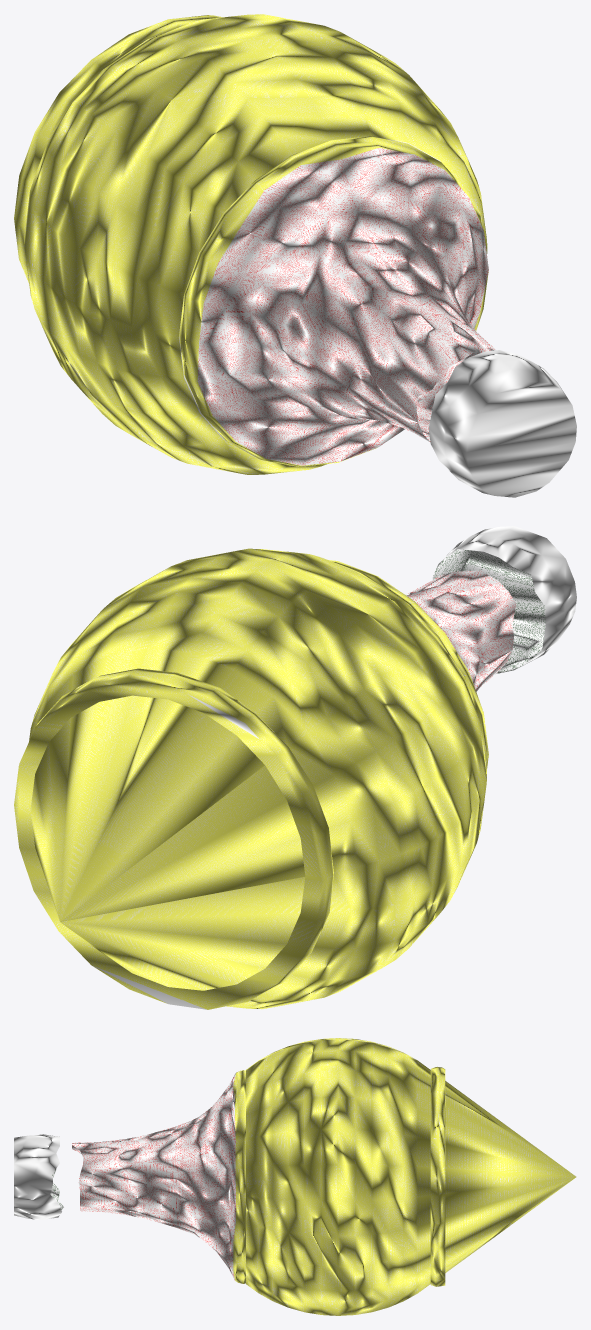
File: model_align.obj
3 views of the same model, one above another, from view 1: azimuth 30°, elevation 25°; view 2: azimuth 150°, elevation 25°; view 3: azimuth 270°, elevation 25° (orthographic). The views are drawn at different scales.
Bounding box in the file's own units: 0.0807 × 0.0807 × 0.1628.
